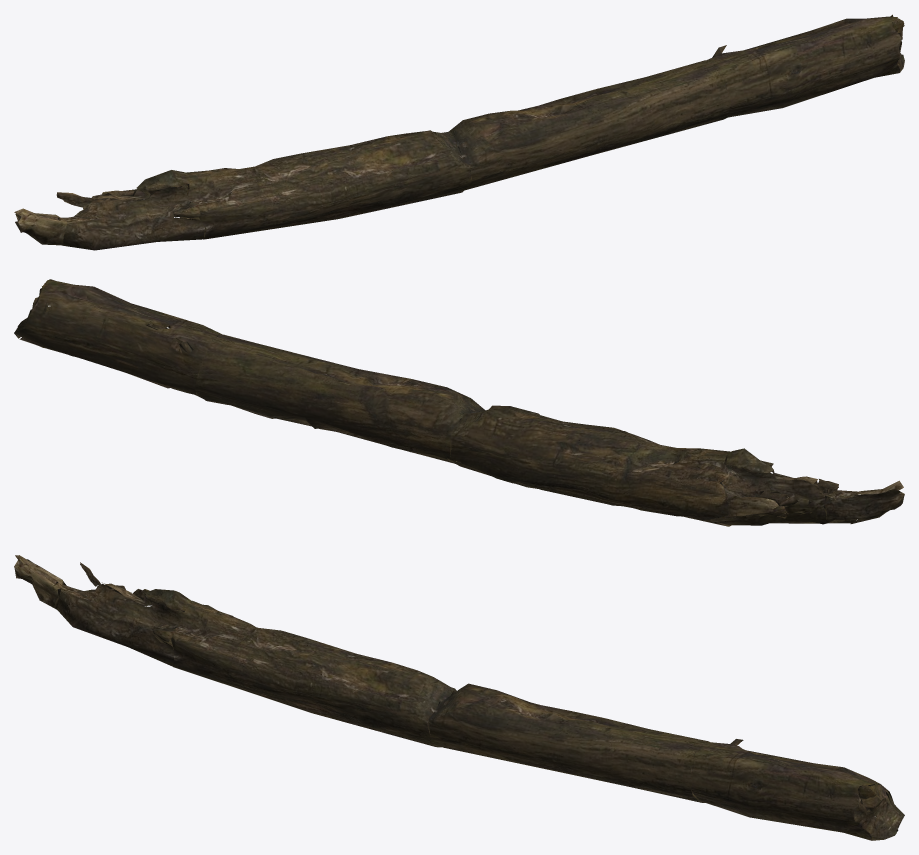
The model's file is dead_tree_trunk_1k.glb.lod.glb.
The picture shows the model from 3 angles, top to bottom: view 1: azimuth 30°, elevation 25°; view 2: azimuth 150°, elevation 25°; view 3: azimuth 330°, elevation 25°; orthographic projection.
Parts seen in each view (by area): view 1: dead_tree_trunk; view 2: dead_tree_trunk; view 3: dead_tree_trunk.
Part boxes in pixels (x1,y1,x2,y2): dead_tree_trunk: [14, 14, 904, 250]; dead_tree_trunk: [14, 279, 904, 526]; dead_tree_trunk: [14, 555, 904, 840].
Bounding box in the file's own units: 3.05 × 0.2848 × 0.2797.
Materials: 1 (1 with a texture image).
